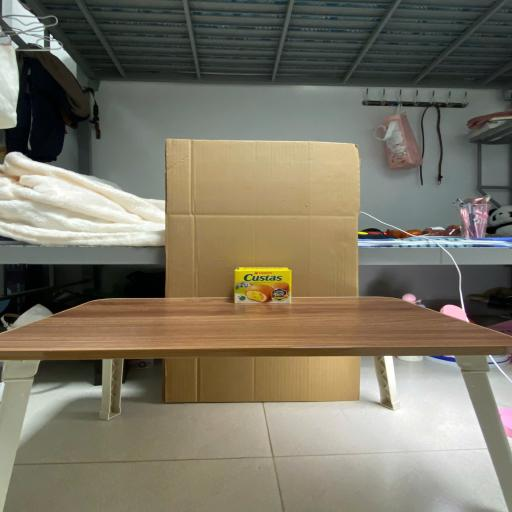custas: (234, 267, 292, 304)
